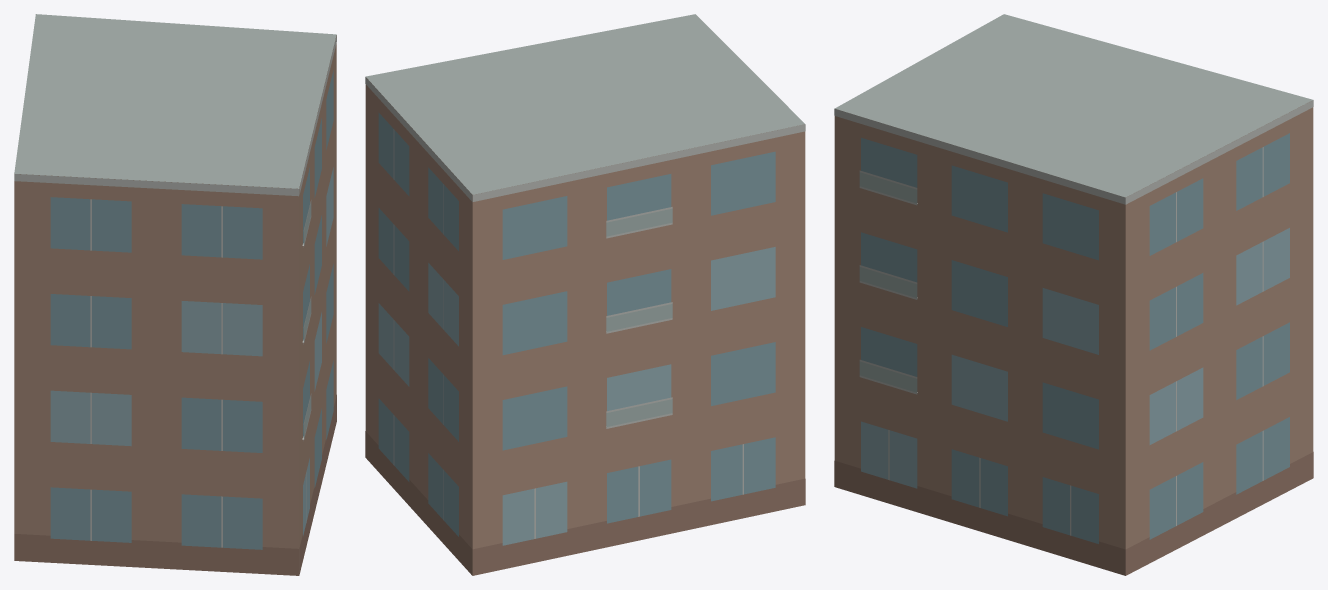
Rendered from survey-upis-32610249.glb.
3 renders of one model, left to right at view 1: azimuth 30°, elevation 25°; view 2: azimuth 150°, elevation 25°; view 3: azimuth 270°, elevation 25°, orthographic. The views are drawn at different scales.
Visible parts, largest first — view 1: survey-upis-32610249.tmp; view 2: survey-upis-32610249.tmp; view 3: survey-upis-32610249.tmp.
Boxes of the visible parts, left/top/right/bottom form: survey-upis-32610249.tmp: left=14, top=14, right=336, bottom=575; survey-upis-32610249.tmp: left=365, top=14, right=805, bottom=575; survey-upis-32610249.tmp: left=834, top=14, right=1313, bottom=575.
Bounding box in the file's own units: 13.32 × 12.8 × 14.69.
